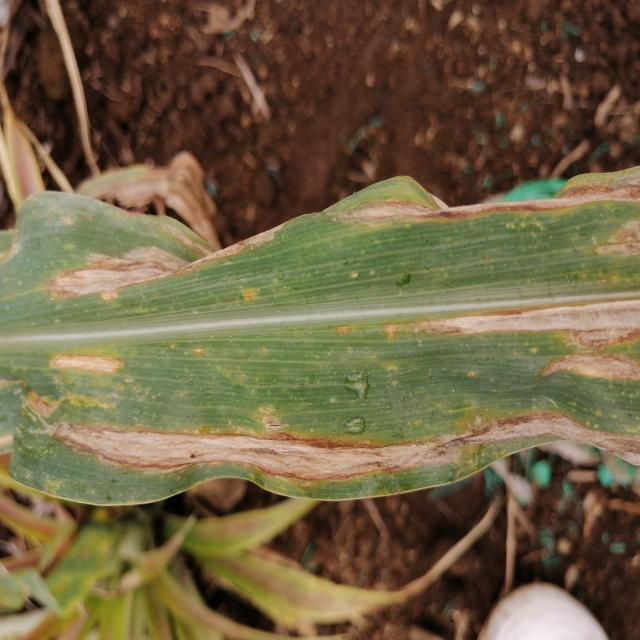Corn_Leaf_Blight: (1, 160, 640, 496)
